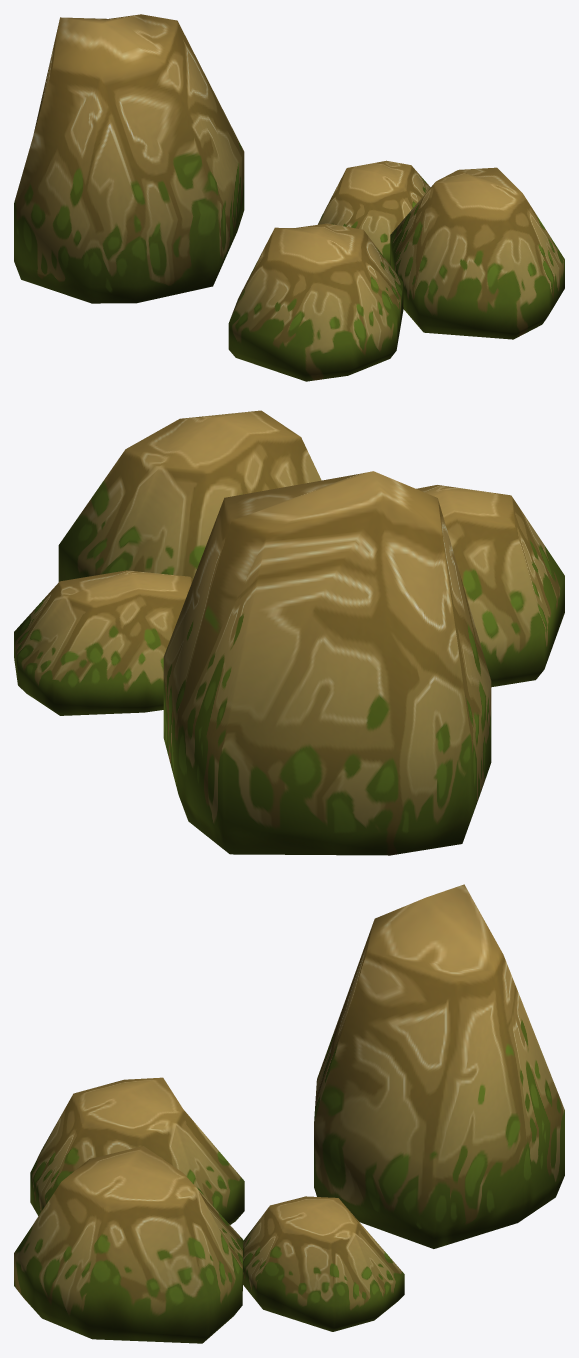
Rendered from RockGroup_2.FBX.
3 renders of one model, top to bottom at view 1: azimuth 30°, elevation 25°; view 2: azimuth 150°, elevation 25°; view 3: azimuth 270°, elevation 25°, orthographic. The views are drawn at different scales.
Parts seen in each view (by area): view 1: RockGroup2; view 2: RockGroup2; view 3: RockGroup2.
Part boxes in pixels (x1=…): RockGroup2: x1=14, y1=14, x2=564, y2=381; RockGroup2: x1=14, y1=410, x2=564, y2=855; RockGroup2: x1=14, y1=884, x2=564, y2=1343.
Size of the model in its own units: 46.89 by 27.26 by 49.52.
1 material, 1 textured.
